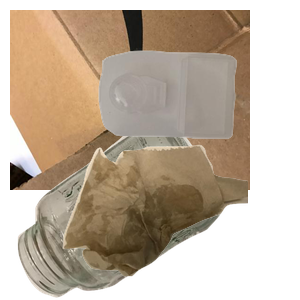cardboard: (10, 10, 250, 190)
glass: (15, 126, 229, 300)
plastic: (96, 48, 300, 179)
trash: (60, 142, 300, 300)
